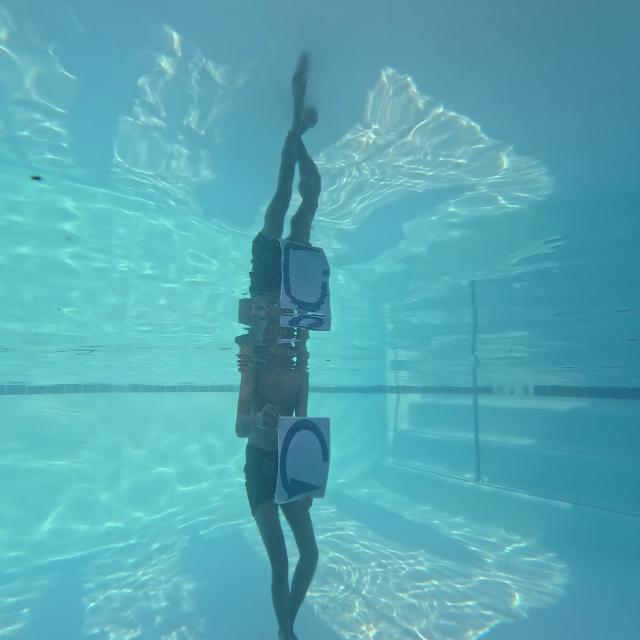blue_side: (268, 400, 339, 518)
